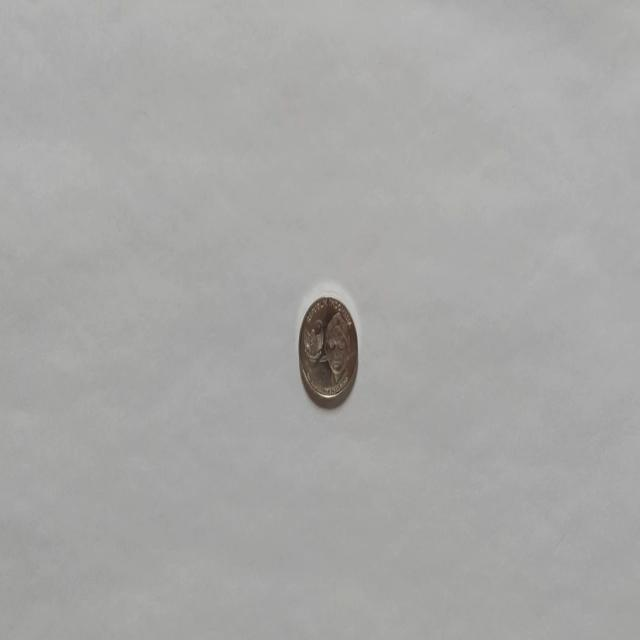dua ratus rupiah: (297, 292, 358, 408)
